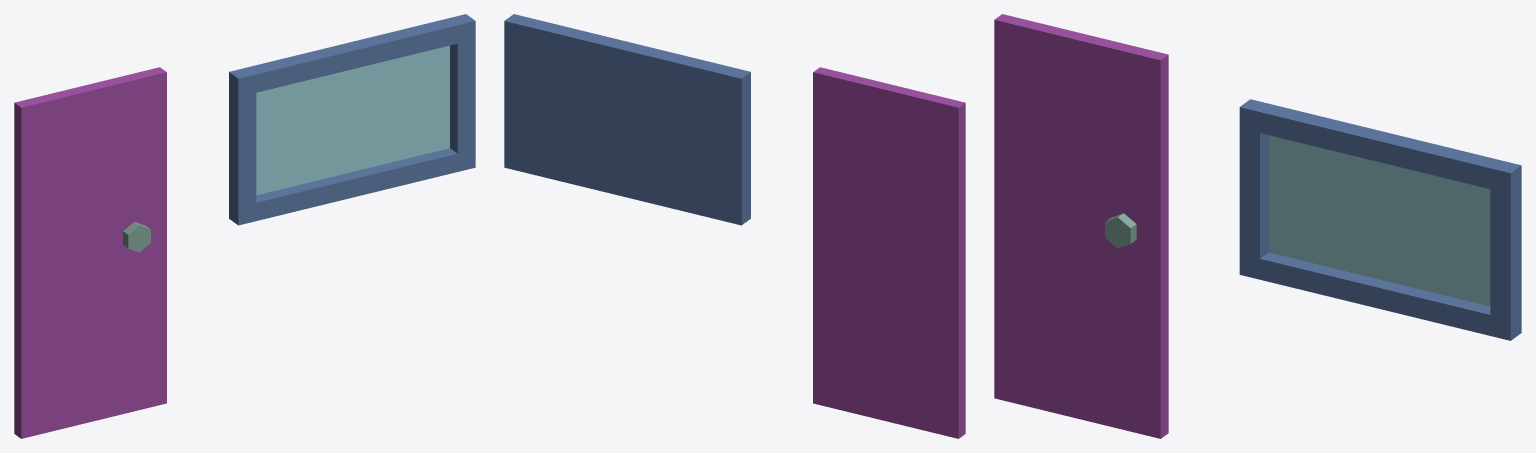
Rendered from facade_2.fbx.
3 renders of one model, left to right at view 1: azimuth 30°, elevation 25°; view 2: azimuth 150°, elevation 25°; view 3: azimuth 330°, elevation 25°, orthographic. The views are drawn at different scales.
Visible parts, largest first — view 1: door, window_front, door_knob; view 2: door, window_front; view 3: door, window_front, door_knob.
Part boxes in pixels (x1,y1,x2,y2): door: (14, 67, 166, 438); window_front: (229, 14, 475, 225); door_knob: (123, 221, 150, 252); door: (813, 67, 965, 438); window_front: (504, 14, 750, 225); door: (994, 14, 1168, 438); window_front: (1239, 99, 1521, 340); door_knob: (1105, 213, 1136, 248).
Size of the model in its own units: 74.14 by 51.8 by 3.78.
